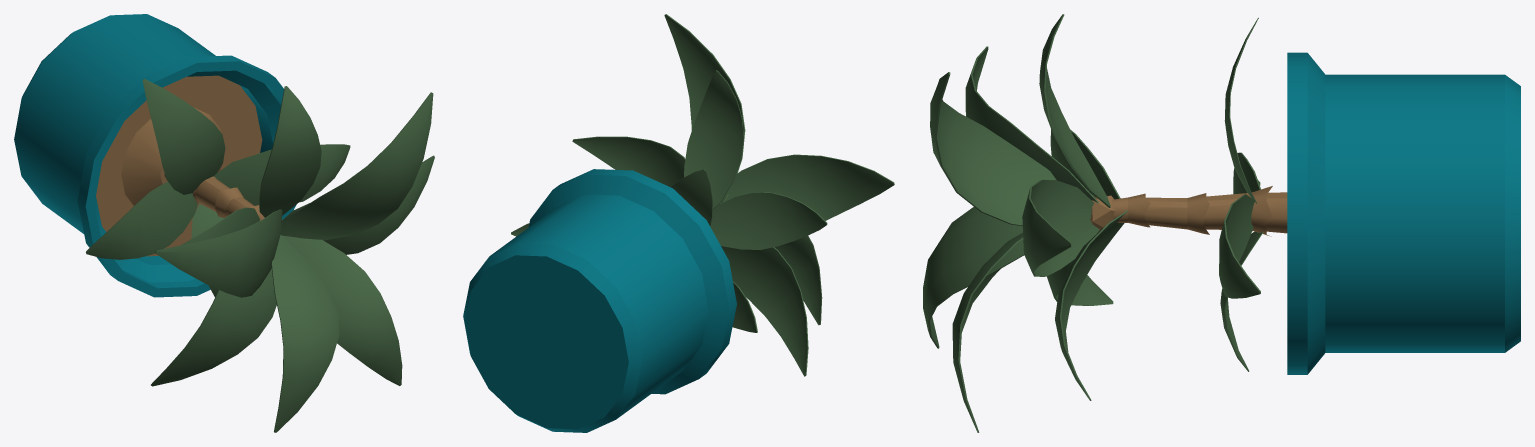
File: plant_1.glb
3 renders of one model, left to right at view 1: azimuth 30°, elevation 25°; view 2: azimuth 150°, elevation 25°; view 3: azimuth 270°, elevation 25°, orthographic. The views are drawn at different scales.
Parts seen in each view (by area): view 1: plant-1; view 2: plant-1; view 3: plant-1.
Part boxes in pixels (x1,y1,x2,y2): plant-1: (14,14,434,432); plant-1: (463,14,894,432); plant-1: (923,14,1520,432).
Size of the model in its own units: 0.8756 by 0.7984 by 1.16.
